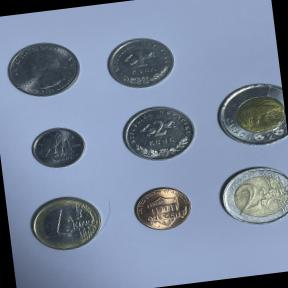1 Euro: (24, 190, 107, 256)
2 Euro: (213, 160, 288, 231)
Canda-10cent-: (26, 122, 92, 173)
Canda-2Dollar-: (210, 78, 288, 152)
Croatia-2Kune-: (115, 100, 204, 168)
US-1cent-: (128, 181, 198, 236)
US-25cent-: (0, 35, 86, 102)
